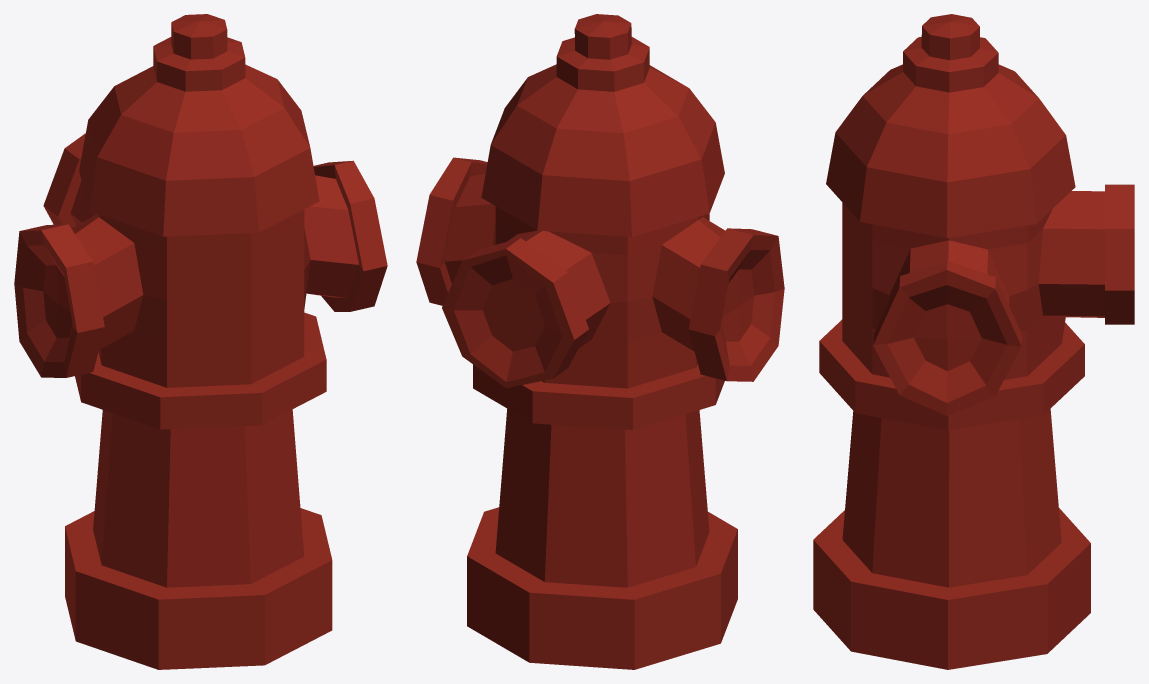
File: hydrant.fbx
3 renders of one model, left to right at view 1: azimuth 30°, elevation 25°; view 2: azimuth 150°, elevation 25°; view 3: azimuth 270°, elevation 25°, orthographic.
Parts seen in each view (by area): view 1: Cylinder.002; view 2: Cylinder.002; view 3: Cylinder.002.
Boxes of the visible parts, x1,y1,x2,y2 form: Cylinder.002: [14, 14, 387, 669]; Cylinder.002: [416, 14, 784, 669]; Cylinder.002: [813, 14, 1134, 669].
Bounding box in the file's own units: 32.35 × 59.32 × 29.29.
